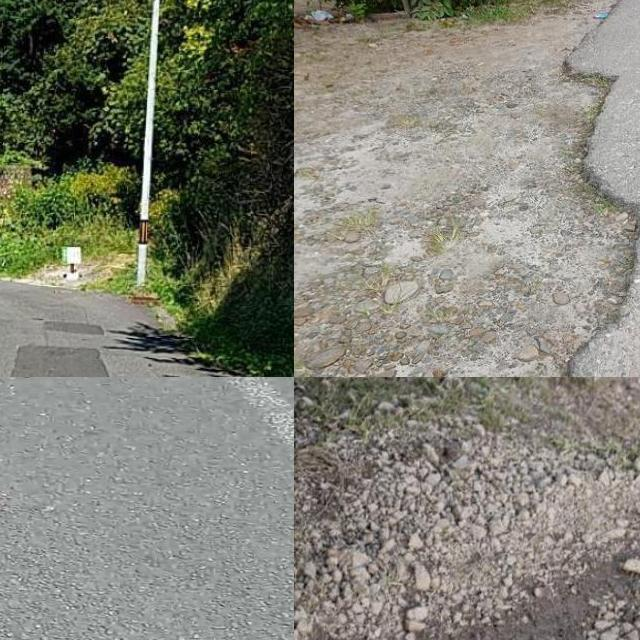Pinggir: (530, 0, 640, 377)
Sambungan: (8, 345, 113, 377)
